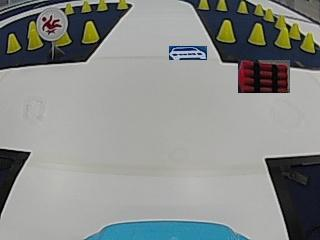cone: (216, 18, 235, 43), (81, 20, 99, 43), (248, 22, 265, 45), (274, 27, 290, 49), (27, 25, 41, 50), (300, 32, 315, 53), (6, 32, 19, 53), (289, 22, 299, 39), (236, 0, 248, 14), (254, 2, 264, 16), (264, 7, 273, 22), (64, 2, 74, 15), (81, 0, 91, 13), (216, 0, 227, 11), (198, 0, 209, 10), (97, 0, 107, 11), (117, 0, 127, 9)
tumble: (39, 11, 65, 37)
